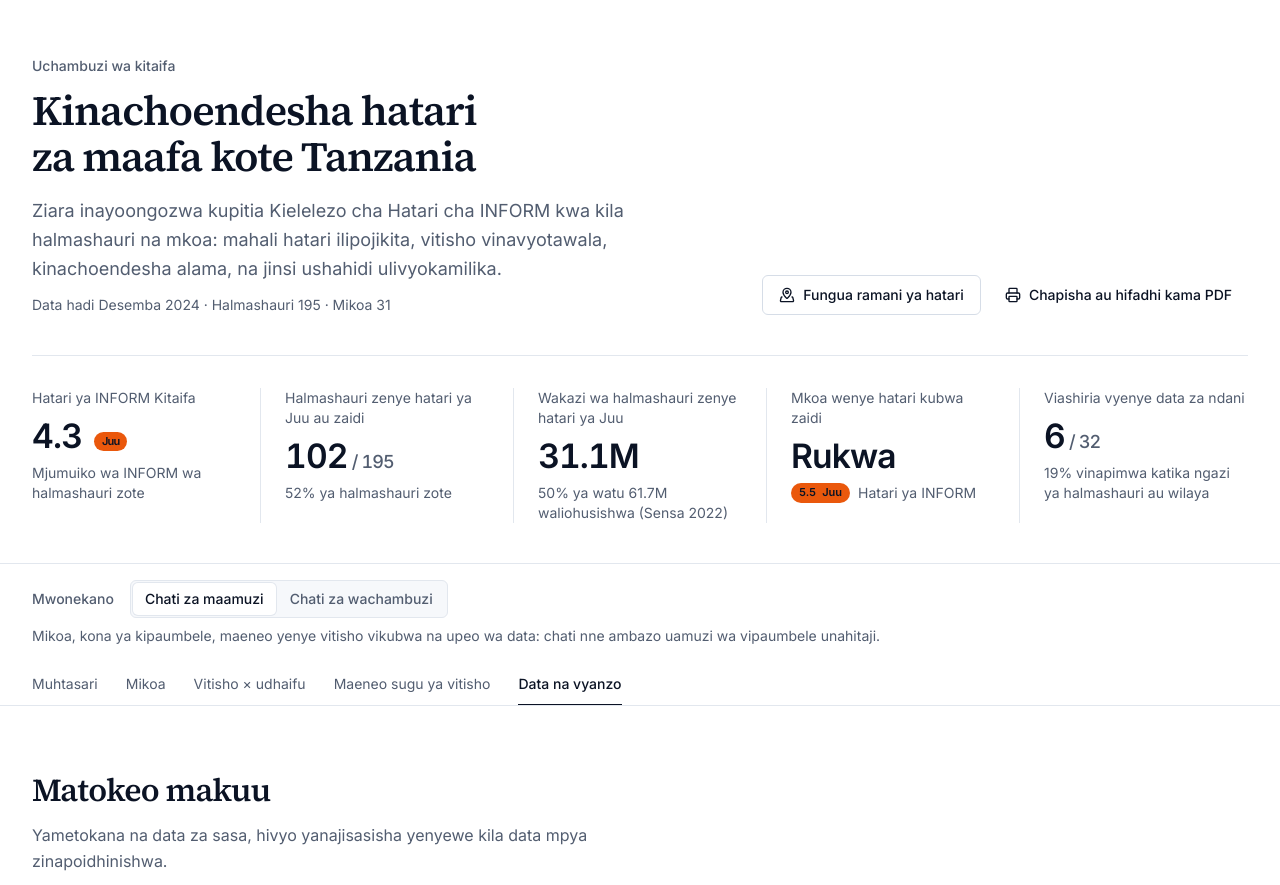
Test: InsightsPage › renders in Kiswahili
The width and height of the screenshot is (1280, 885).
Expected: the heading "Kinachoendesha hatari za maafa kote Tanzania" is shown, [32,82,477,185]
Expected: the heading "Matokeo makuu" is shown, [32,768,270,812]
Click the radio button labelled "Chati za wachambuzi" at point(361, 599), box [278,583,445,615]
(page scrolled)
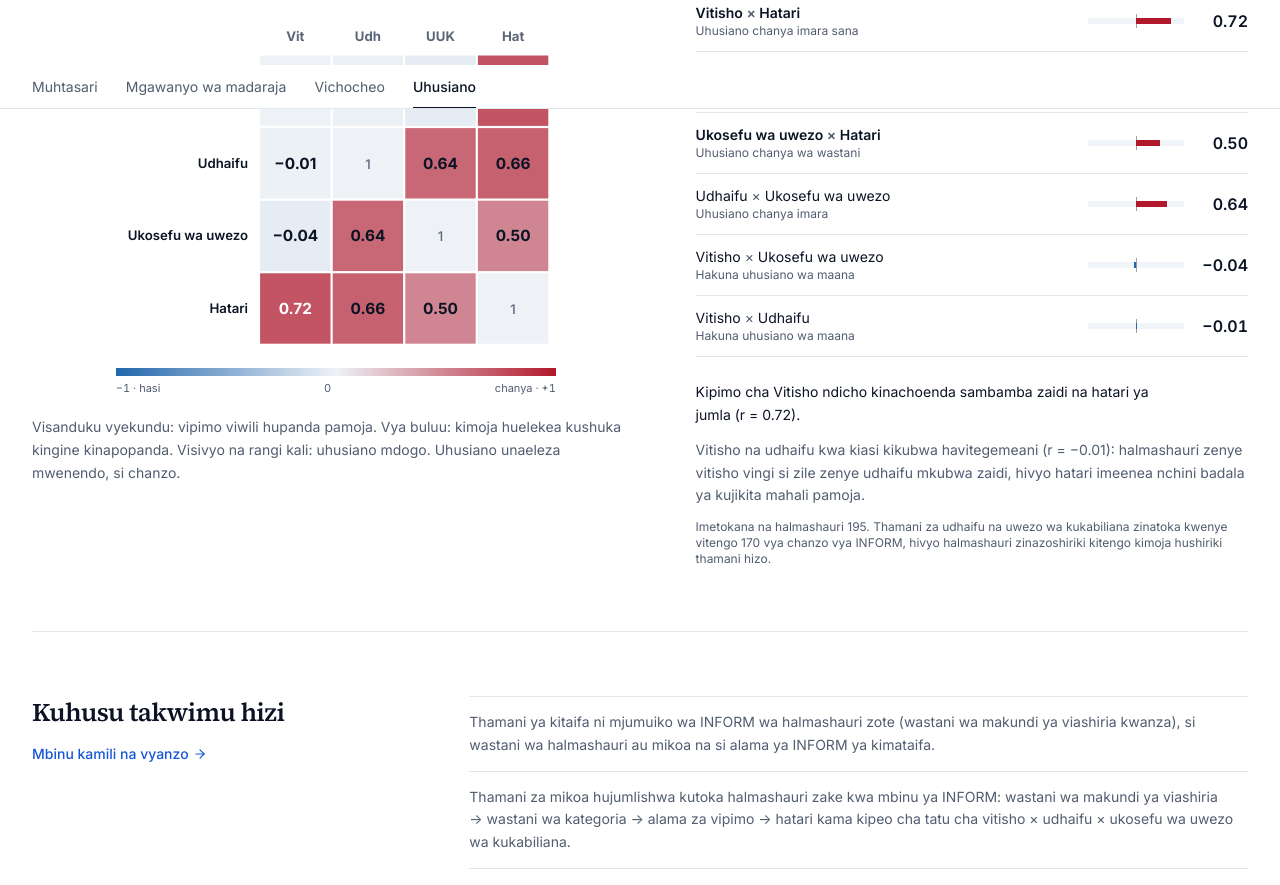
Now the text "Visanduku vyekundu: vipimo viwili hupanda pamoja. Vya buluu: kimoja huelekea kushuka kingine kinapopanda. Visivyo na ran" is shown, box [32,418,621,480]
